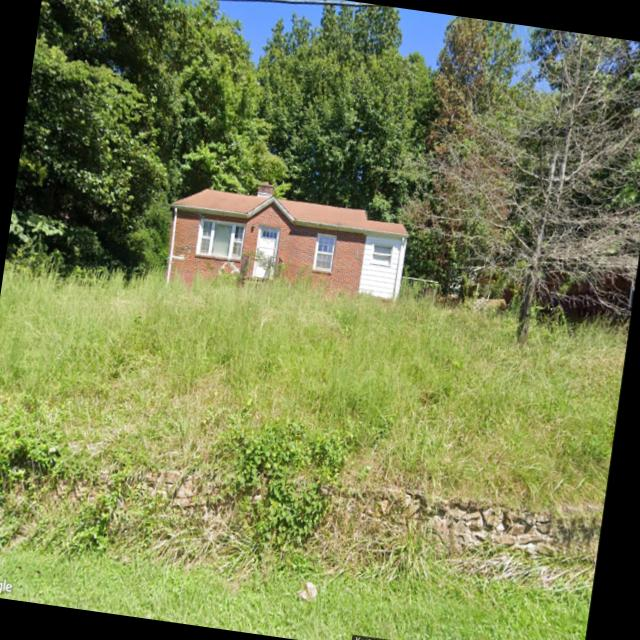House: (162, 169, 415, 302)
